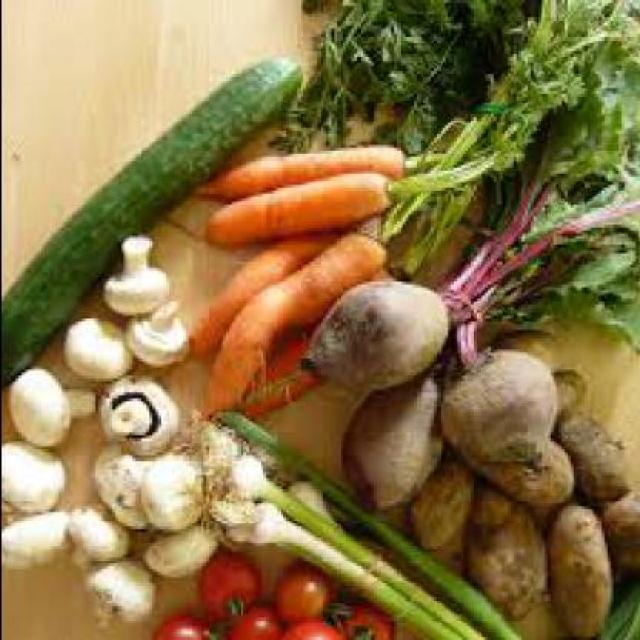BIODEGRADABLE: (3, 54, 308, 380), (437, 0, 638, 365), (228, 409, 529, 637), (374, 0, 615, 277), (213, 418, 490, 637), (205, 218, 392, 412), (273, 0, 467, 151), (188, 233, 342, 356), (434, 321, 560, 461), (296, 279, 452, 387), (202, 165, 398, 248), (348, 370, 449, 508), (444, 406, 578, 506), (194, 142, 412, 202), (466, 486, 552, 617), (546, 498, 617, 634), (96, 372, 186, 456), (9, 364, 100, 444), (242, 330, 322, 416), (99, 227, 176, 313), (410, 458, 478, 550), (564, 406, 631, 496), (79, 558, 159, 625), (3, 438, 68, 509), (125, 296, 190, 367), (200, 549, 262, 623), (146, 514, 222, 574), (94, 441, 148, 524), (66, 313, 136, 375), (146, 452, 202, 523), (3, 509, 71, 566), (597, 483, 638, 575), (72, 500, 136, 558), (274, 560, 335, 620), (333, 592, 398, 638), (600, 584, 638, 638), (228, 608, 284, 638), (159, 614, 219, 638), (285, 617, 352, 637)
